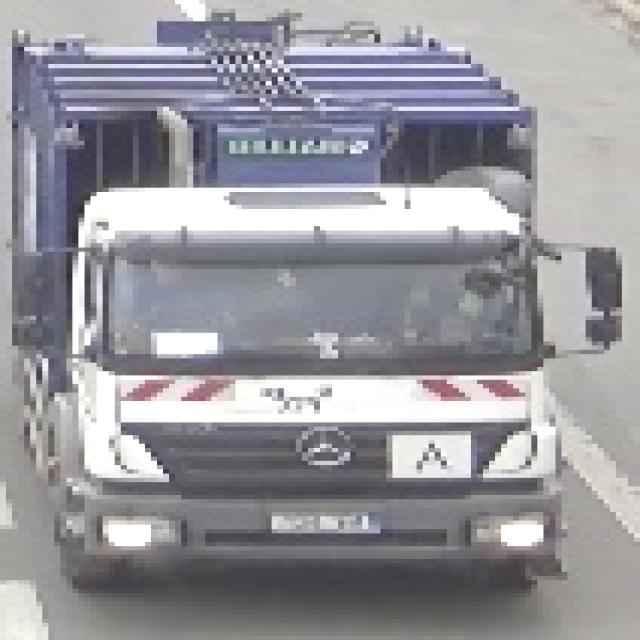truck: (1, 1, 617, 594)
